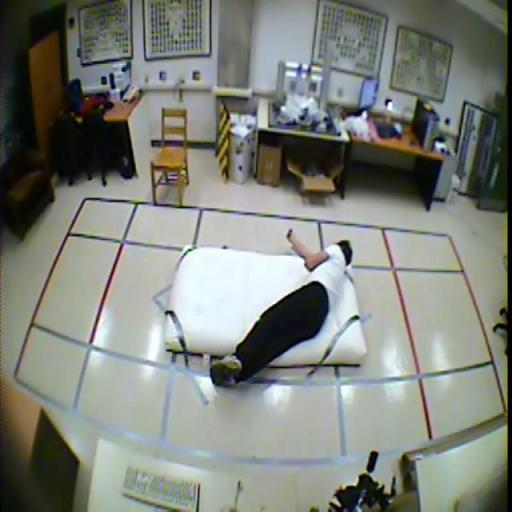Fall: (209, 226, 352, 389)
